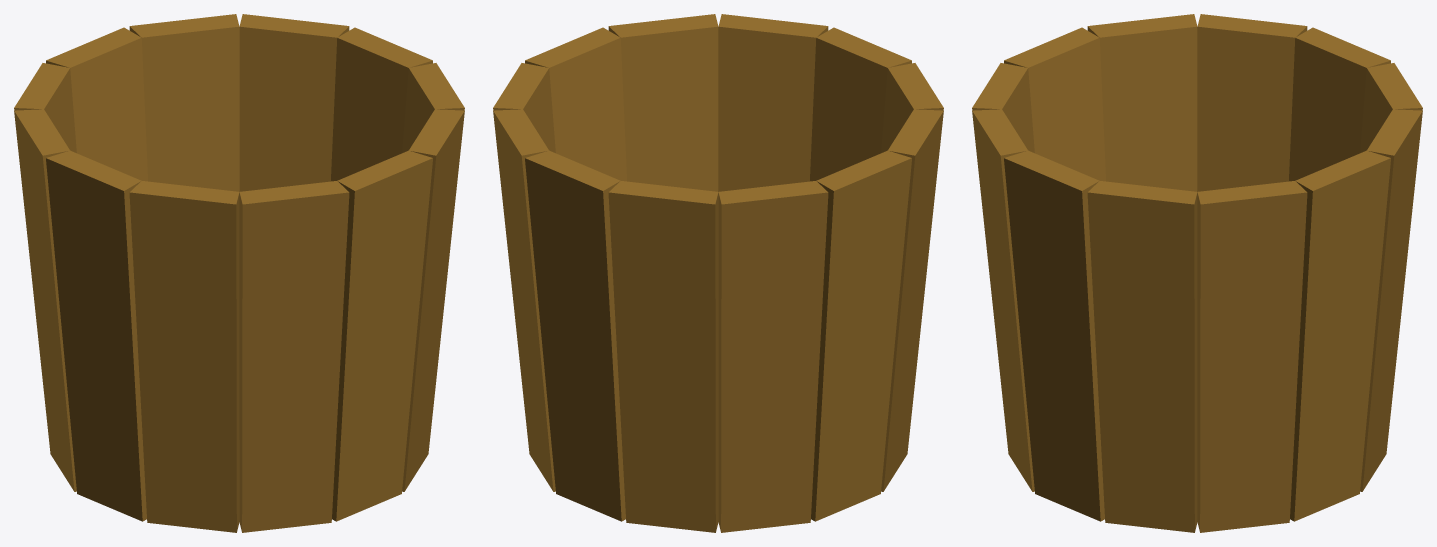
Rendered from Bucket.fbx.
The picture shows the model from 3 angles, left to right: view 1: azimuth 30°, elevation 25°; view 2: azimuth 150°, elevation 25°; view 3: azimuth 270°, elevation 25°; orthographic projection.
Visible parts, largest first — view 1: bucket; view 2: bucket; view 3: bucket.
Boxes of the visible parts, <box> form: bucket: <box>14,14,464,532</box>; bucket: <box>493,14,943,532</box>; bucket: <box>972,14,1422,532</box>.
Bounding box in the file's own units: 16.71 × 14.06 × 16.71.
